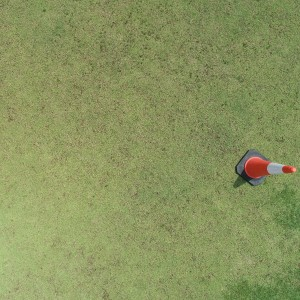traffic cone: (235, 148, 297, 187)
